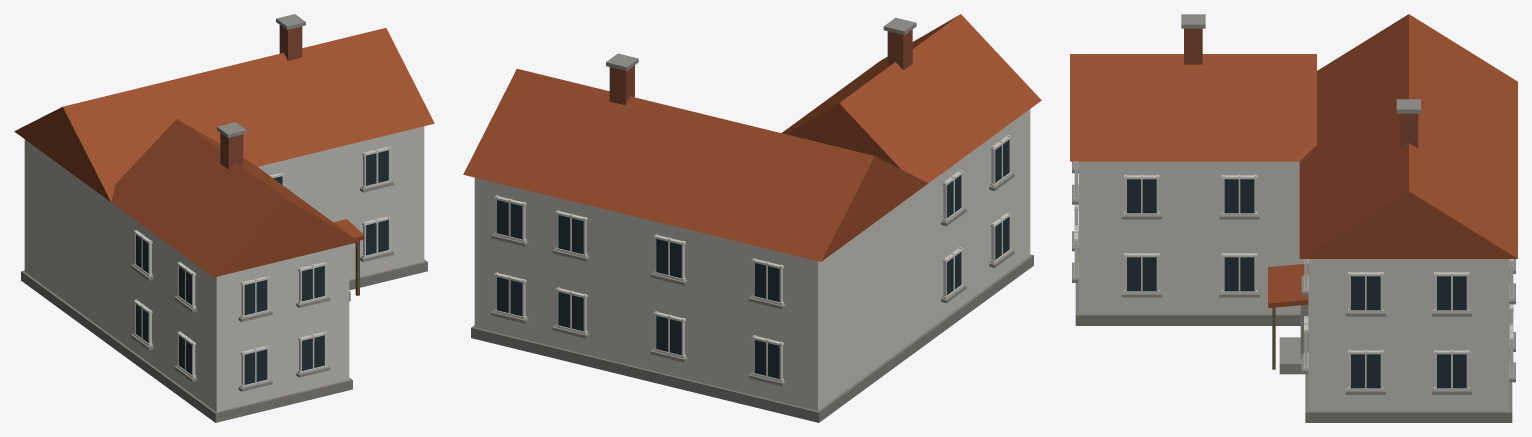
File: Scenery_House_C.fbx
3 renders of one model, left to right at view 1: azimuth 30°, elevation 25°; view 2: azimuth 150°, elevation 25°; view 3: azimuth 270°, elevation 25°, orthographic. The views are drawn at different scales.
Parts seen in each view (by area): view 1: Scenery_House_C_LOD0; view 2: Scenery_House_C_LOD0; view 3: Scenery_House_C_LOD0.
Boxes of the visible parts, x1,y1,x2,y2 form: Scenery_House_C_LOD0: (14,14,434,422); Scenery_House_C_LOD0: (463,14,1041,422); Scenery_House_C_LOD0: (1070,14,1517,422).
Size of what is drawn, in the model's own units: 14.6 by 10.32 by 15.6.
